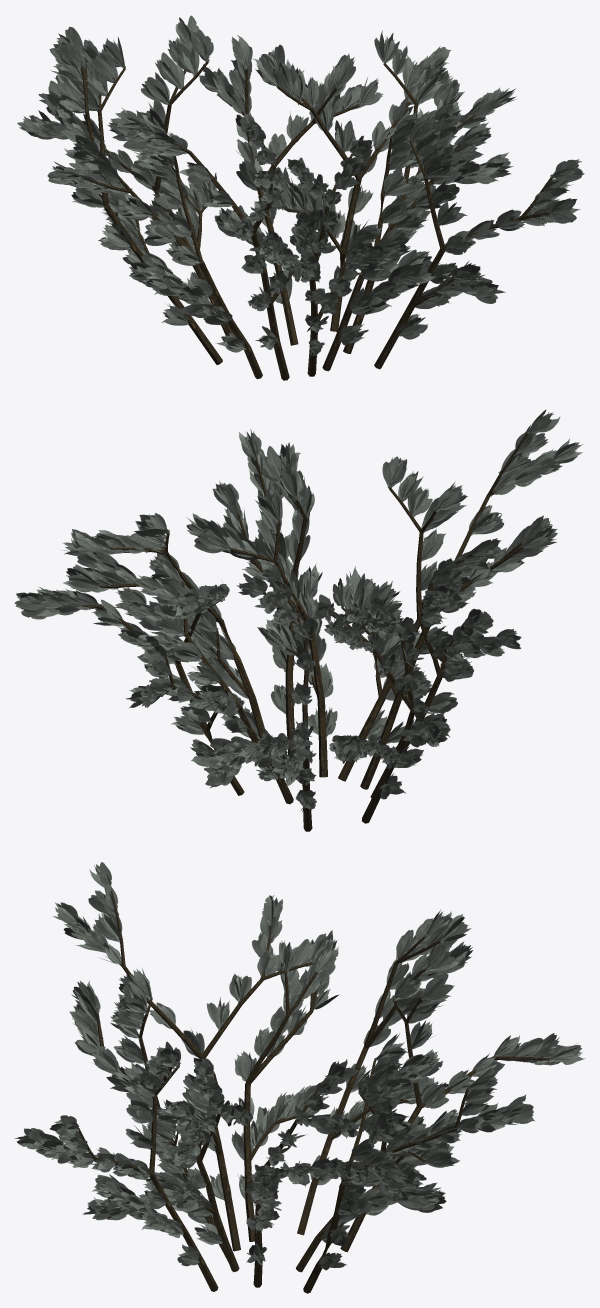
File: sagebrush_grey_v01.glb
3 views of the same model, one above another, from view 1: azimuth 30°, elevation 25°; view 2: azimuth 150°, elevation 25°; view 3: azimuth 270°, elevation 25° (orthographic). The views are drawn at different scales.
Visible parts, largest first — view 1: sagebrush_grey_v01; view 2: sagebrush_grey_v01; view 3: sagebrush_grey_v01.
Part boxes in pixels (bbox=[...]): sagebrush_grey_v01: bbox=[17, 15, 584, 380]; sagebrush_grey_v01: bbox=[14, 410, 583, 831]; sagebrush_grey_v01: bbox=[14, 862, 585, 1293].
Size of the model in its own units: 0.7598 by 0.5485 by 0.8354.
Materials: 2 (2 with a texture image).
